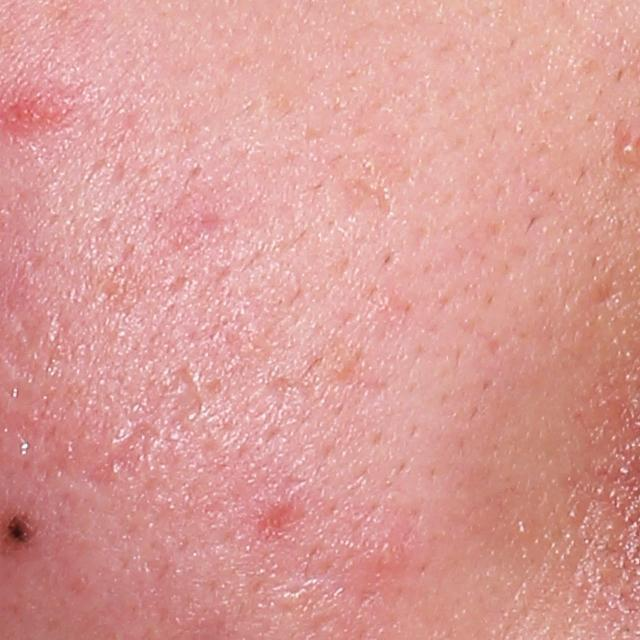atrophic_scar: (88, 421, 161, 484), (339, 175, 398, 224)
